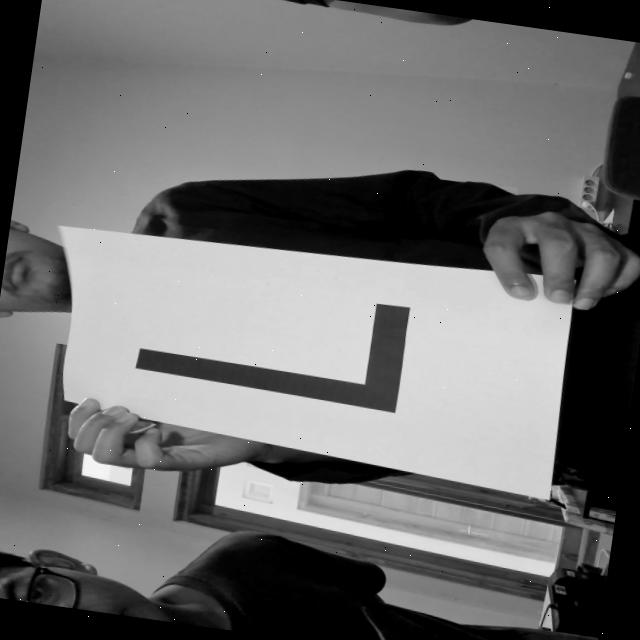l: (116, 255, 442, 431)
